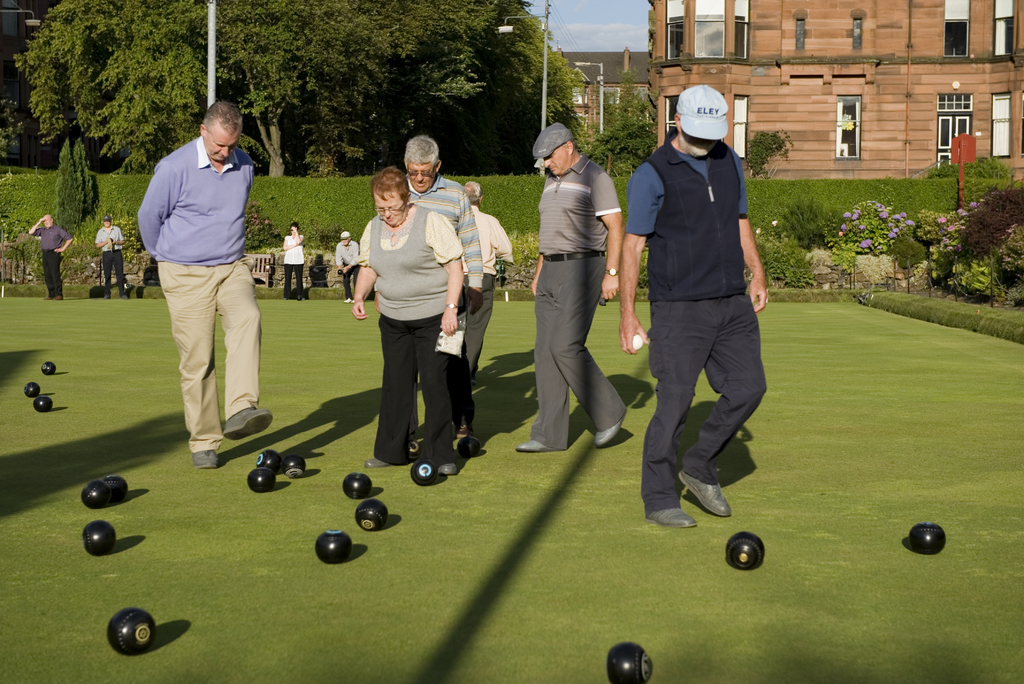Person: (618, 84, 768, 527), (137, 100, 272, 468), (513, 118, 630, 453), (351, 167, 463, 475), (402, 136, 482, 439), (463, 180, 516, 391), (27, 214, 72, 300), (95, 216, 128, 299), (335, 232, 358, 305), (283, 222, 303, 300)
